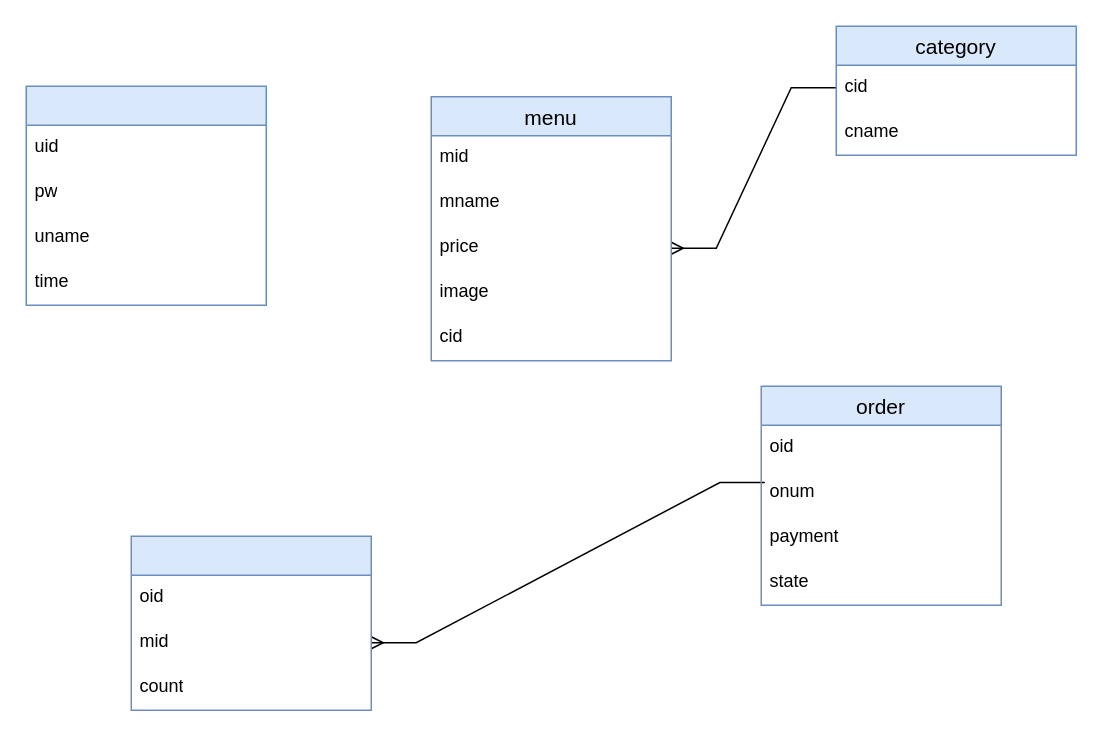
The diagram is 1103 pixels wide and 741 high, and some of its shapes have lost their labels. Here are the shapes that lost their labels. From the top down, the box of each, then its label:
(25, 85, 266, 305): user
(130, 535, 371, 710): order_detail
